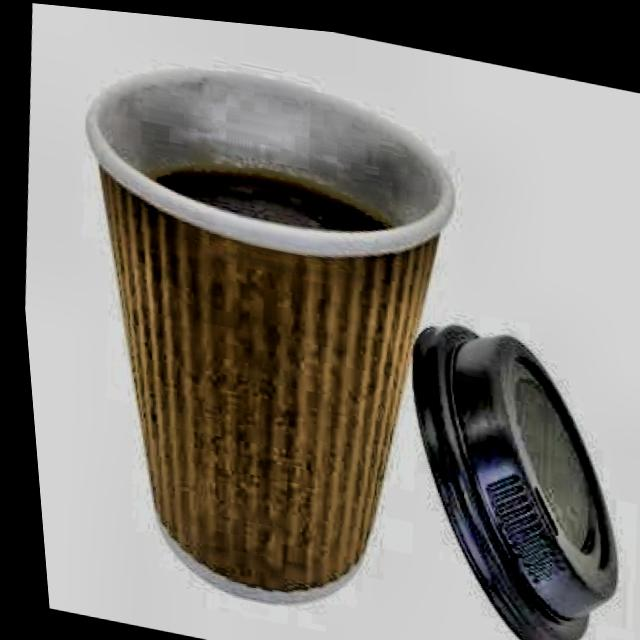Cup: (30, 31, 491, 640)
